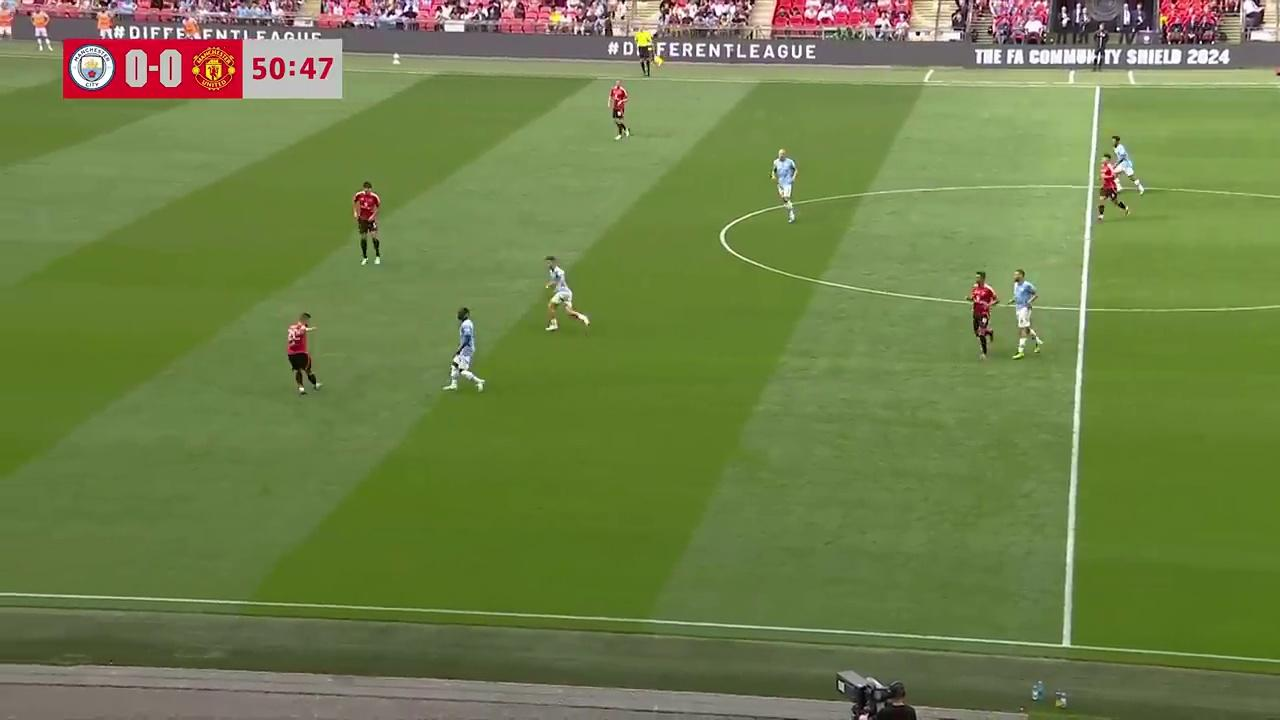player: (442, 307, 485, 392), (543, 255, 589, 331), (964, 272, 999, 359), (1009, 268, 1042, 359), (286, 311, 321, 394), (352, 180, 382, 267), (1096, 155, 1129, 220), (770, 148, 798, 223), (1110, 135, 1142, 191), (607, 80, 631, 140)
referee: (636, 29, 656, 78)
